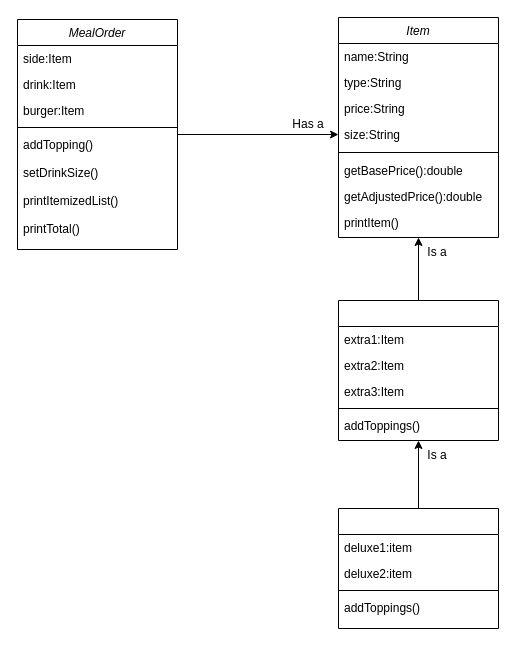
Some shapes in this 516 by 646 pixel diagram are drawn without their labels. The box of each missing label's shape, as (x1, y1, x2, y2) in pixels:
Burger: (338, 300, 498, 440)
DeluxeBurger: (338, 508, 498, 628)
